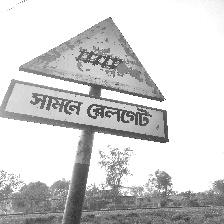Rail-crossing: (1, 16, 168, 143)
